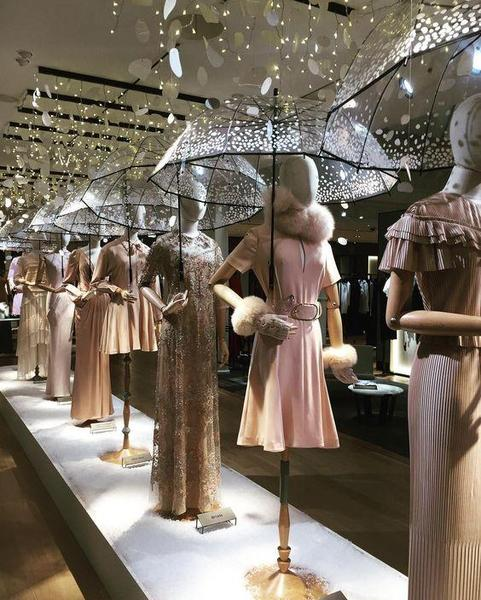person-like: (374, 86, 480, 600), (207, 149, 361, 460), (134, 174, 235, 523), (86, 199, 162, 358), (62, 218, 118, 427), (33, 228, 78, 405), (14, 231, 54, 382)
